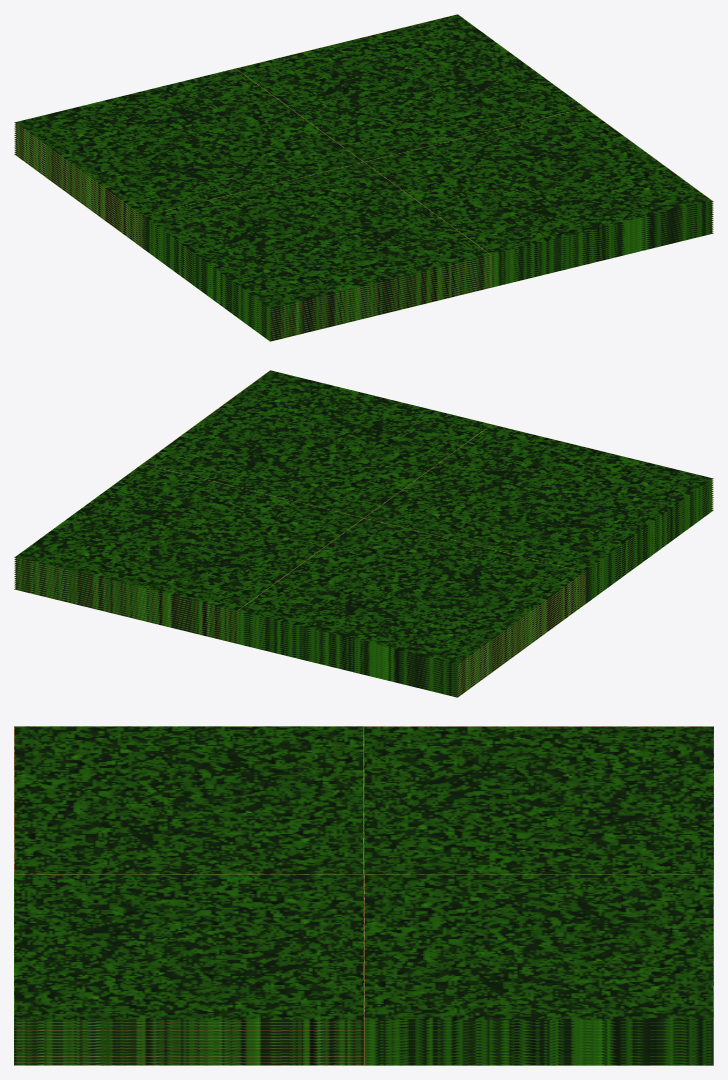
File: mattenbies_3.fbx
3 views of the same model, one above another, from view 1: azimuth 30°, elevation 25°; view 2: azimuth 150°, elevation 25°; view 3: azimuth 270°, elevation 25° (orthographic). The views are drawn at different scales.
Visible parts, largest first — view 1: mattenbies; view 2: mattenbies; view 3: mattenbies.
Boxes of the visible parts, <box> form: mattenbies: <box>14,14,713,341</box>; mattenbies: <box>14,370,713,697</box>; mattenbies: <box>14,726,713,1065</box>.
Bounding box in the file's own units: 1980 × 135 × 1980.
Materials: 1 (1 with a texture image).
